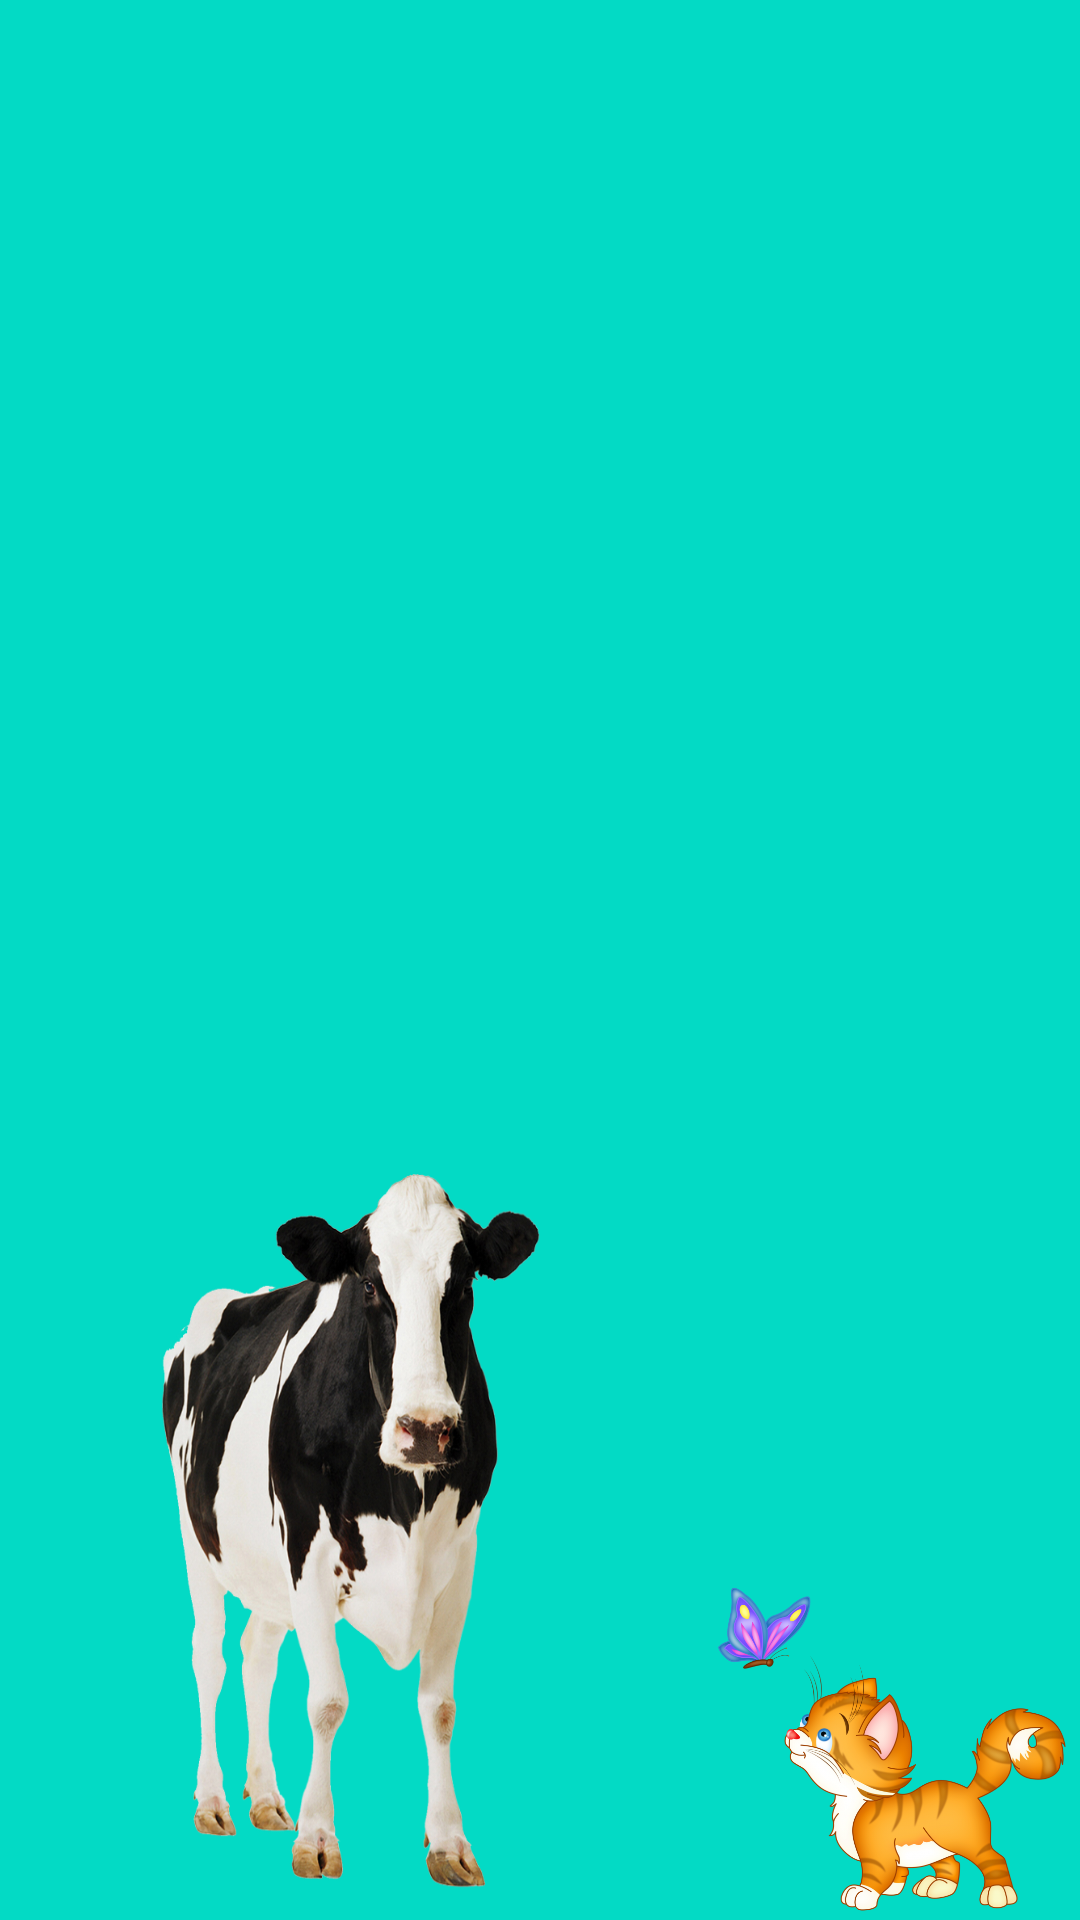

Named icons in this screenshot (1080 × 1920) and their centers, point (x, y):
cat: point (892, 1749)
